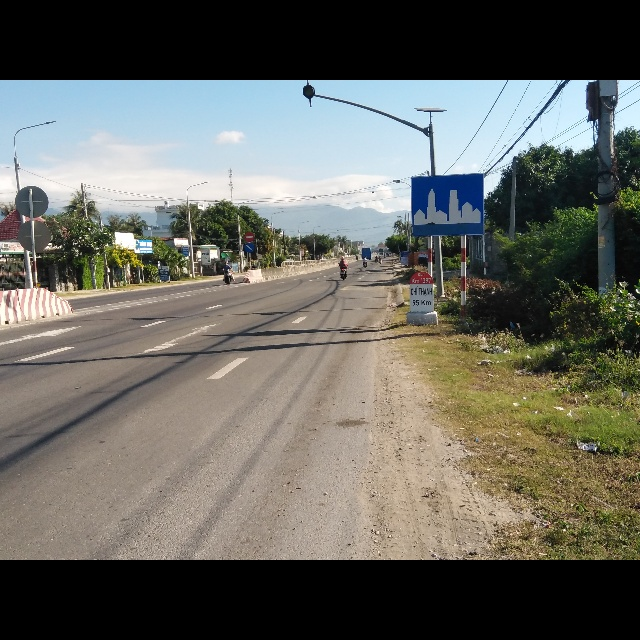Khu đông dân cư: (410, 175, 485, 236)
